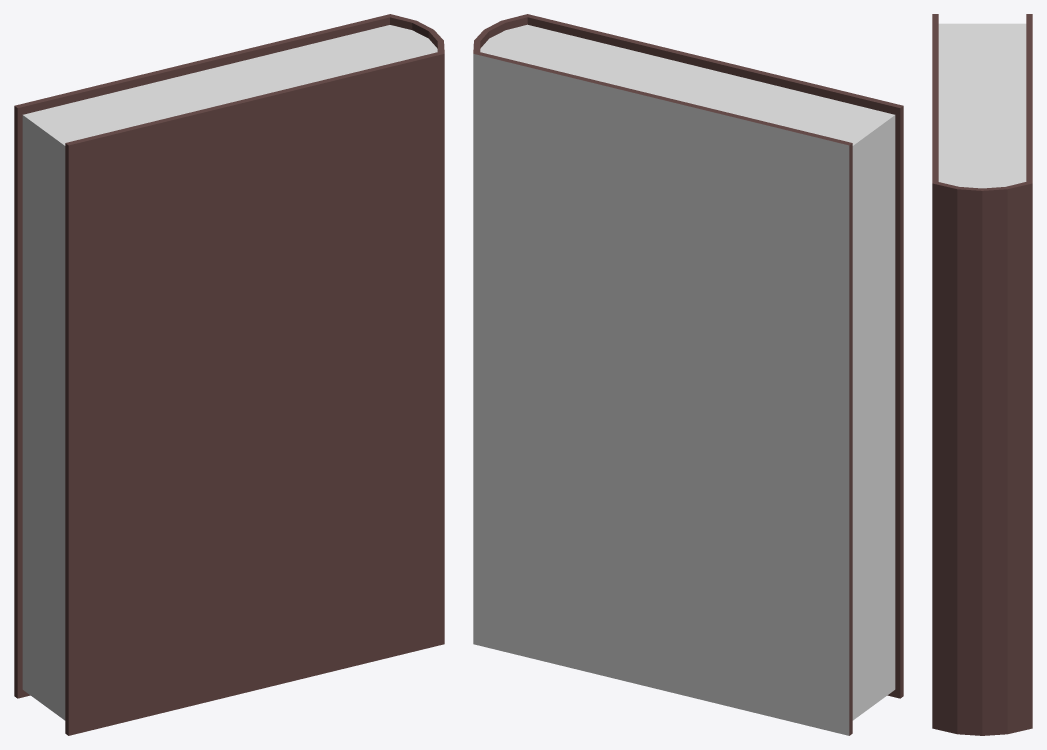
The model's file is book_v2.glb.
3 renders of one model, left to right at view 1: azimuth 30°, elevation 25°; view 2: azimuth 150°, elevation 25°; view 3: azimuth 270°, elevation 25°, orthographic. The views are drawn at different scales.
Parts seen in each view (by area): view 1: Surrounding, Pages; view 2: Cover, Pages, Surrounding; view 3: Surrounding, Pages.
Part boxes in pixels (bbox=[...]): Surrounding: bbox=[14, 14, 444, 735]; Pages: bbox=[22, 25, 437, 720]; Cover: bbox=[473, 54, 849, 735]; Pages: bbox=[480, 24, 895, 720]; Surrounding: bbox=[473, 14, 903, 735]; Surrounding: bbox=[932, 14, 1032, 735]; Pages: bbox=[938, 23, 1026, 188].
Size of the model in its own units: 4.18 by 6 by 1.
